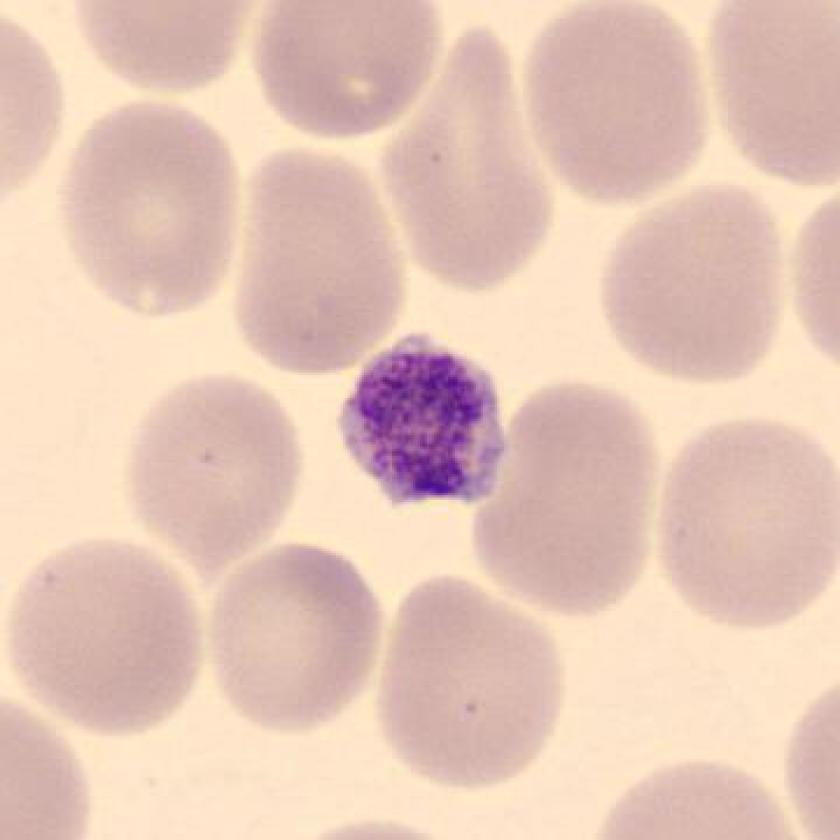platelets: (335, 330, 512, 508)
